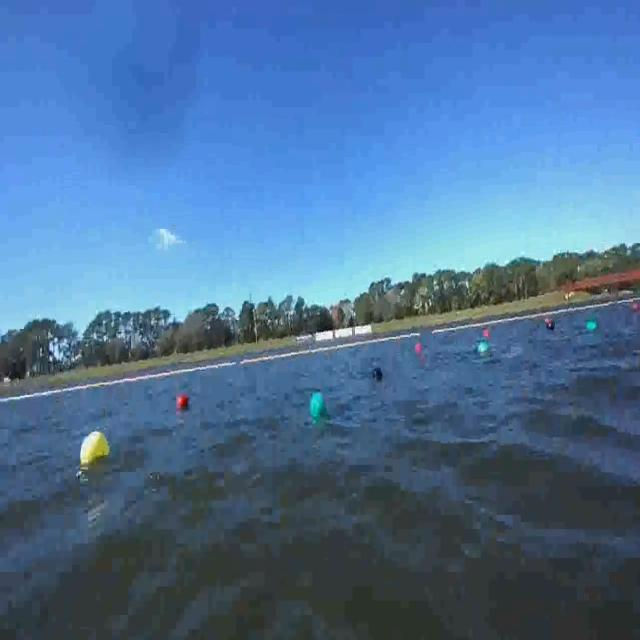black-buoy: (376, 366, 384, 380)
green-buoy: (308, 394, 326, 420), (478, 340, 492, 357), (587, 319, 598, 331)
red-buoy: (178, 393, 189, 408), (415, 344, 424, 354), (632, 304, 640, 313)
yellow-buoy: (82, 431, 111, 463)
